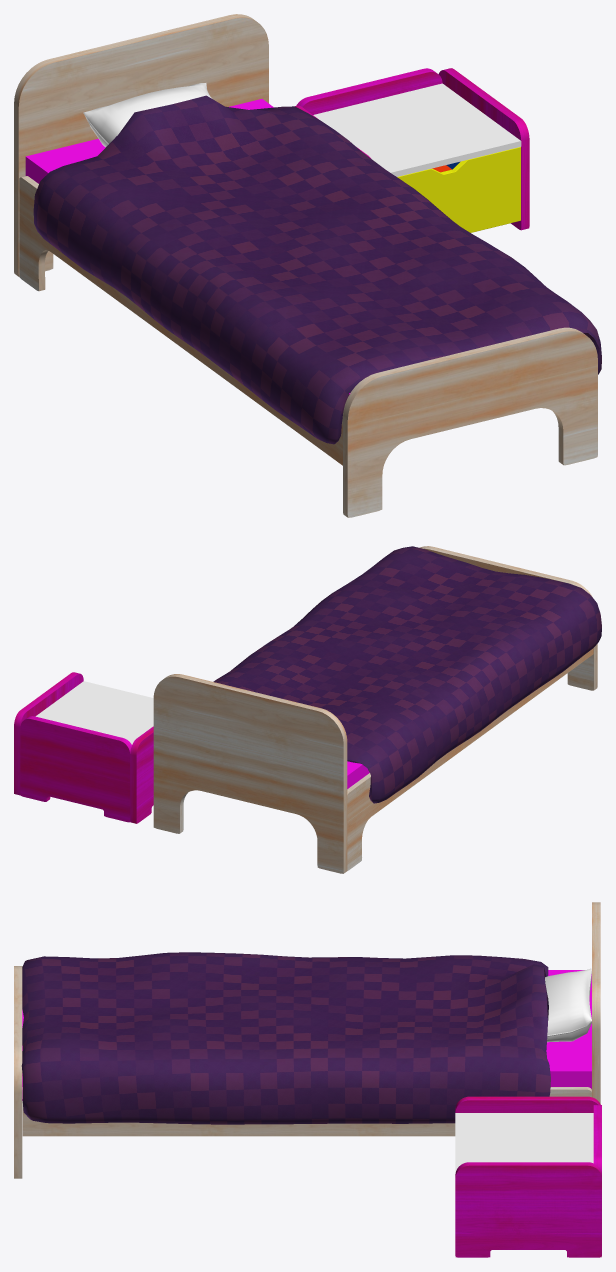
3 renders of one model, top to bottom at view 1: azimuth 30°, elevation 25°; view 2: azimuth 150°, elevation 25°; view 3: azimuth 270°, elevation 25°, orthographic. The views are drawn at different scales.
Visible parts, largest first — view 1: Blanket, Bed_kid, Bed_kid.BKP.001, Tirroir_1-4_40.006, Oreiller; view 2: Blanket, Bed_kid, Bed_kid.BKP.001; view 3: Blanket, Bed_kid.BKP.001, Bed_kid, Oreiller.
Boxes of the visible parts, box(x1,y1,x2,y2) form: Blanket: box(33, 95, 601, 444); Bed_kid: box(14, 14, 597, 517); Bed_kid.BKP.001: box(295, 68, 529, 230); Tirroir_1-4_40.006: box(397, 147, 520, 232); Oreiller: box(83, 83, 211, 147); Blanket: box(213, 546, 601, 803); Bed_kid: box(153, 546, 597, 873); Bed_kid.BKP.001: box(14, 672, 153, 823); Blanket: box(21, 952, 550, 1124); Bed_kid.BKP.001: box(455, 1096, 601, 1257); Bed_kid: box(14, 902, 600, 1178); Oreiller: box(545, 968, 591, 1042).
Size of the model in its own units: 162 by 71 by 209.
Materials: 4 (4 with a texture image).
